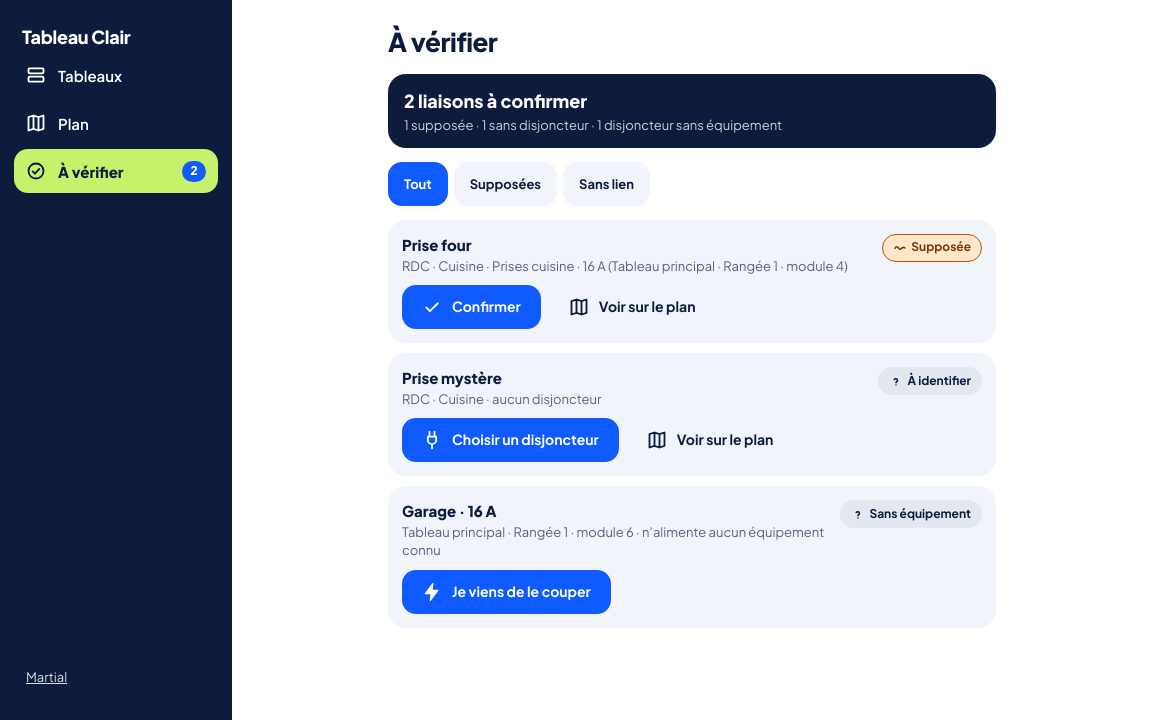
Test: écran À vérifier › filtre les supposées et les éléments sans lien
Check: the text "Prise four" is shown, box [402,235,472,254]
Step 1. Click the button "Supposées" → point(505, 184), box [454,162,557,206]
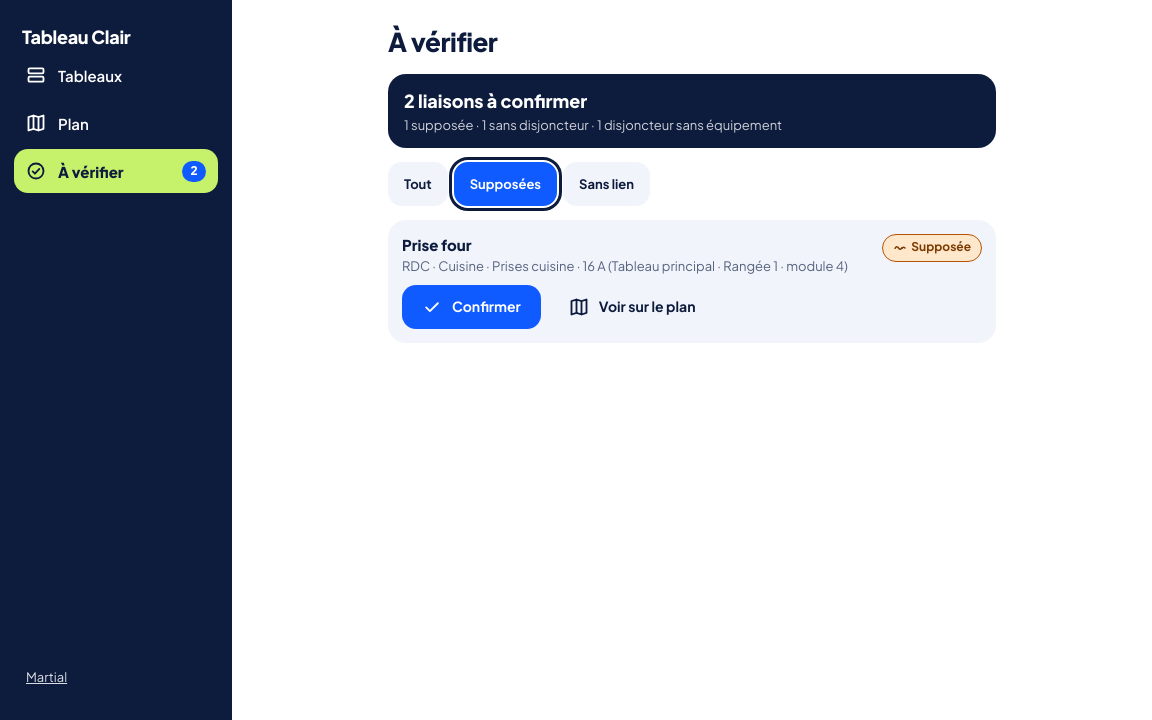
Check: the text "Prise four" is shown, box [402,235,472,254]
Check: the text "Prise mystère" is gone
Step 2. Click the button "Sans lien" → point(606, 184), box [563,162,650,206]
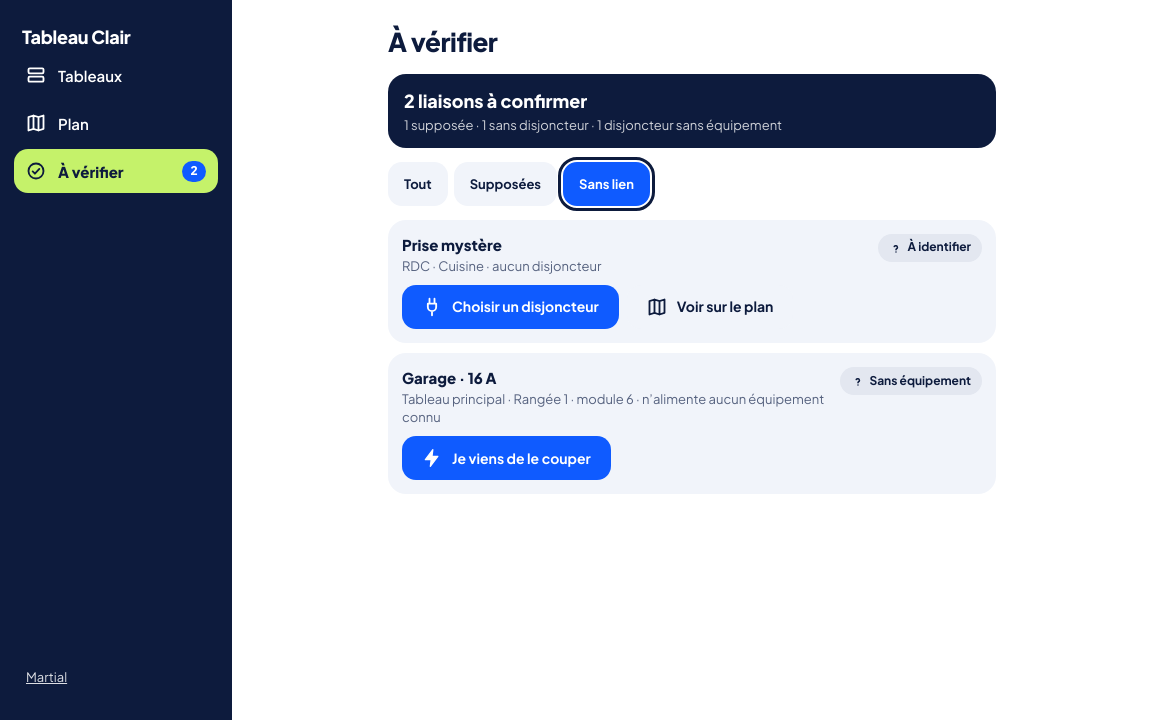
Check: the text "Prise four" is gone
Check: the text "Prise mystère" is shown, box [402,235,502,254]
Check: the text "Garage · 16 A" is shown, box [402,368,496,387]
